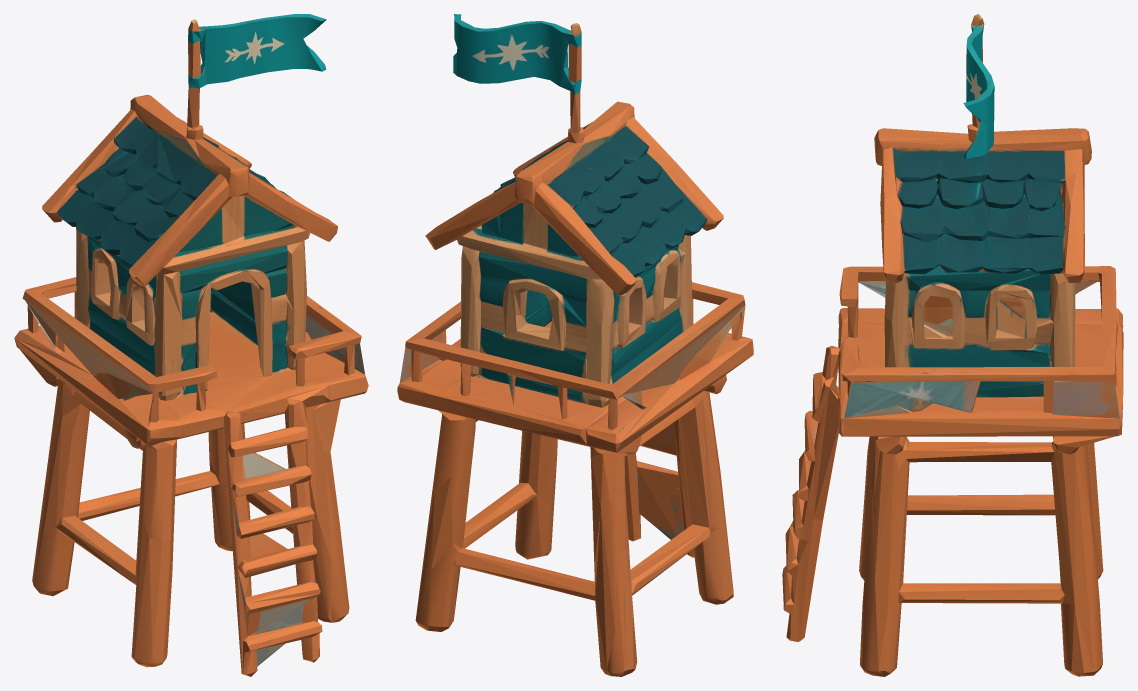
3 renders of one model, left to right at view 1: azimuth 30°, elevation 25°; view 2: azimuth 150°, elevation 25°; view 3: azimuth 270°, elevation 25°, orthographic. The views are drawn at different scales.
Bounding box in the file's own units: 0.8111 × 1.9 × 0.9579.
1 material, 1 textured.
